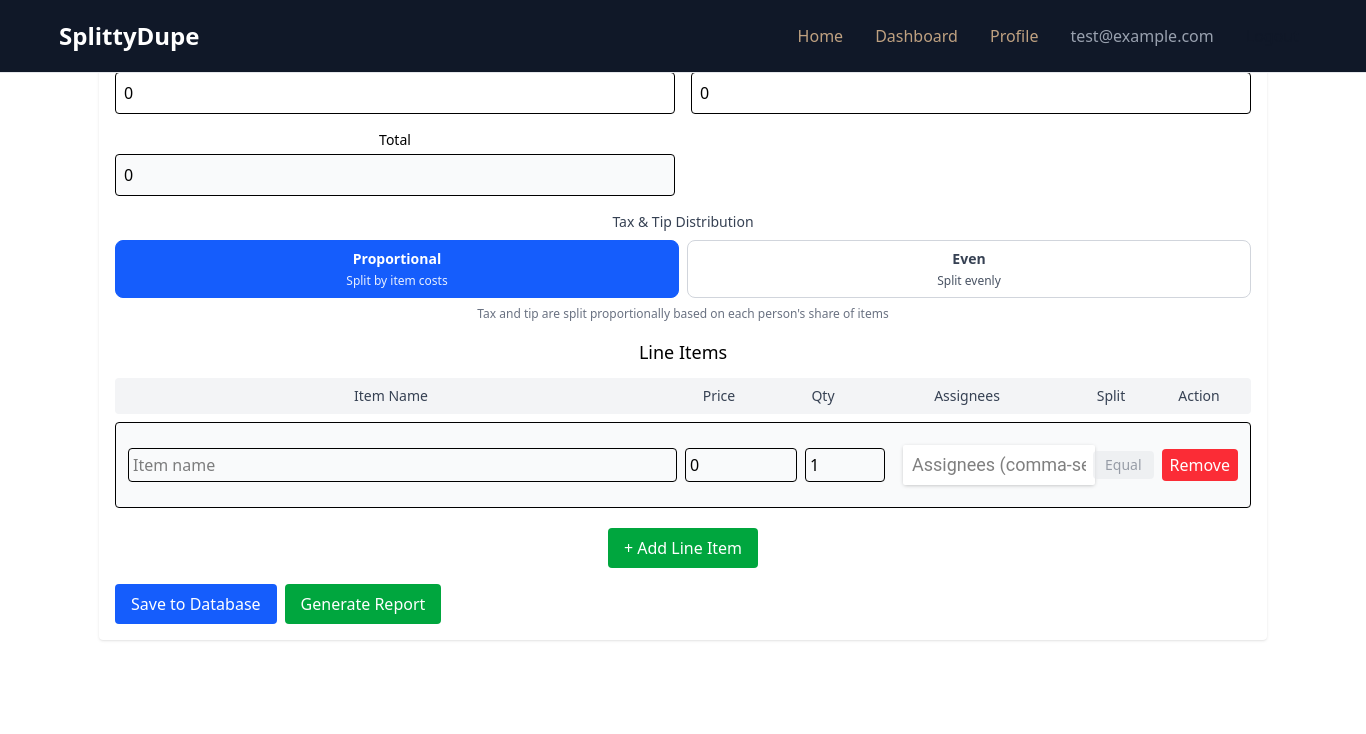
it: Home Page Integration Tests › should generate PDF report successfully
Click the button "Generate Report" at (363, 604), box [285,584,441,624]
(page scrolled)
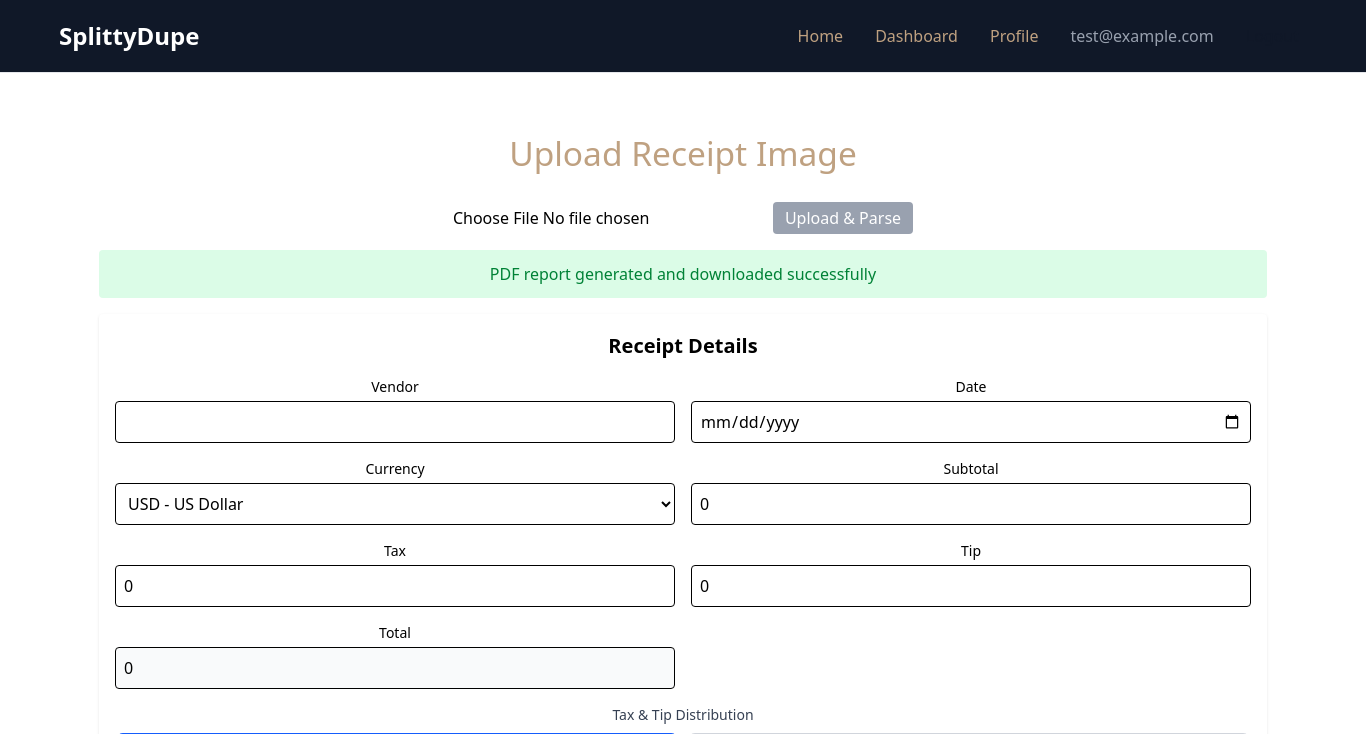
Expected: the text "PDF report generated and downloaded successfully" is shown, [99,250,1267,298]
